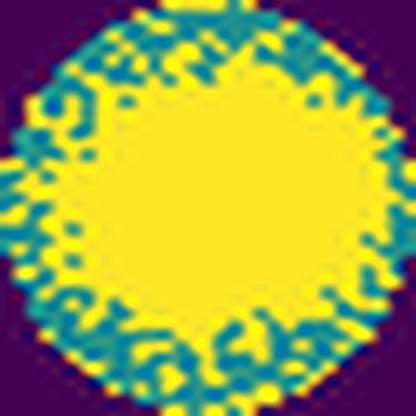Center: (44, 39, 396, 360)
